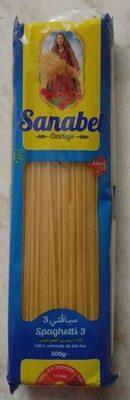Spaghetti: (15, 17, 111, 387)
